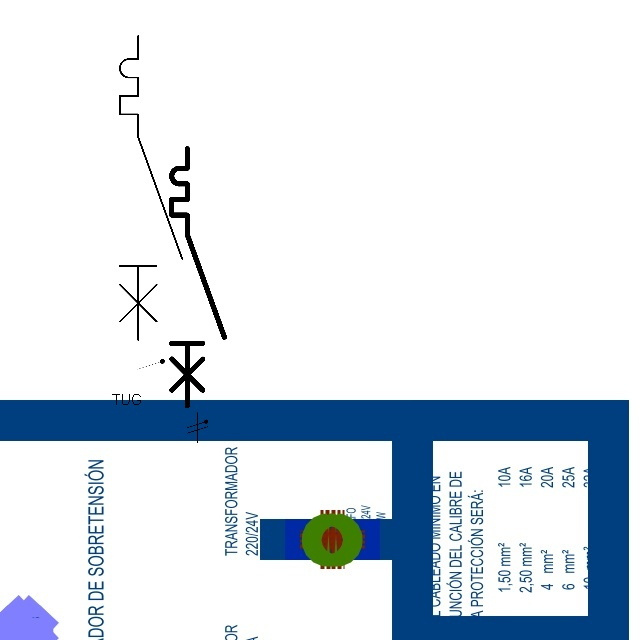interruptor_termomagnetico: (112, 28, 190, 348), (165, 142, 231, 412)
